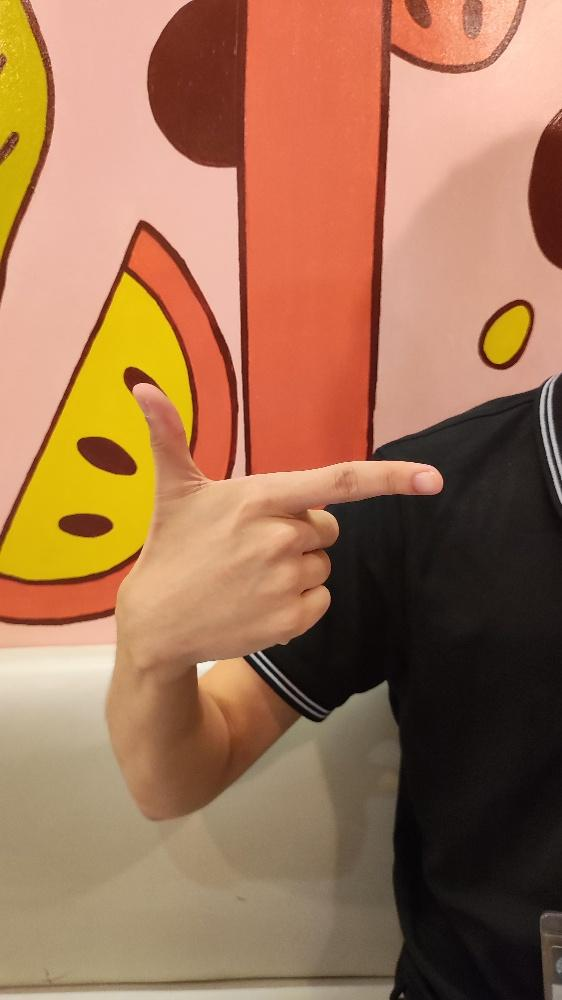g: (111, 379, 444, 663)
